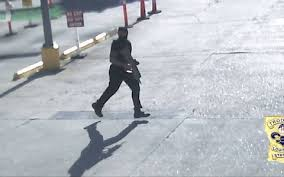rifle: (121, 50, 143, 80)
